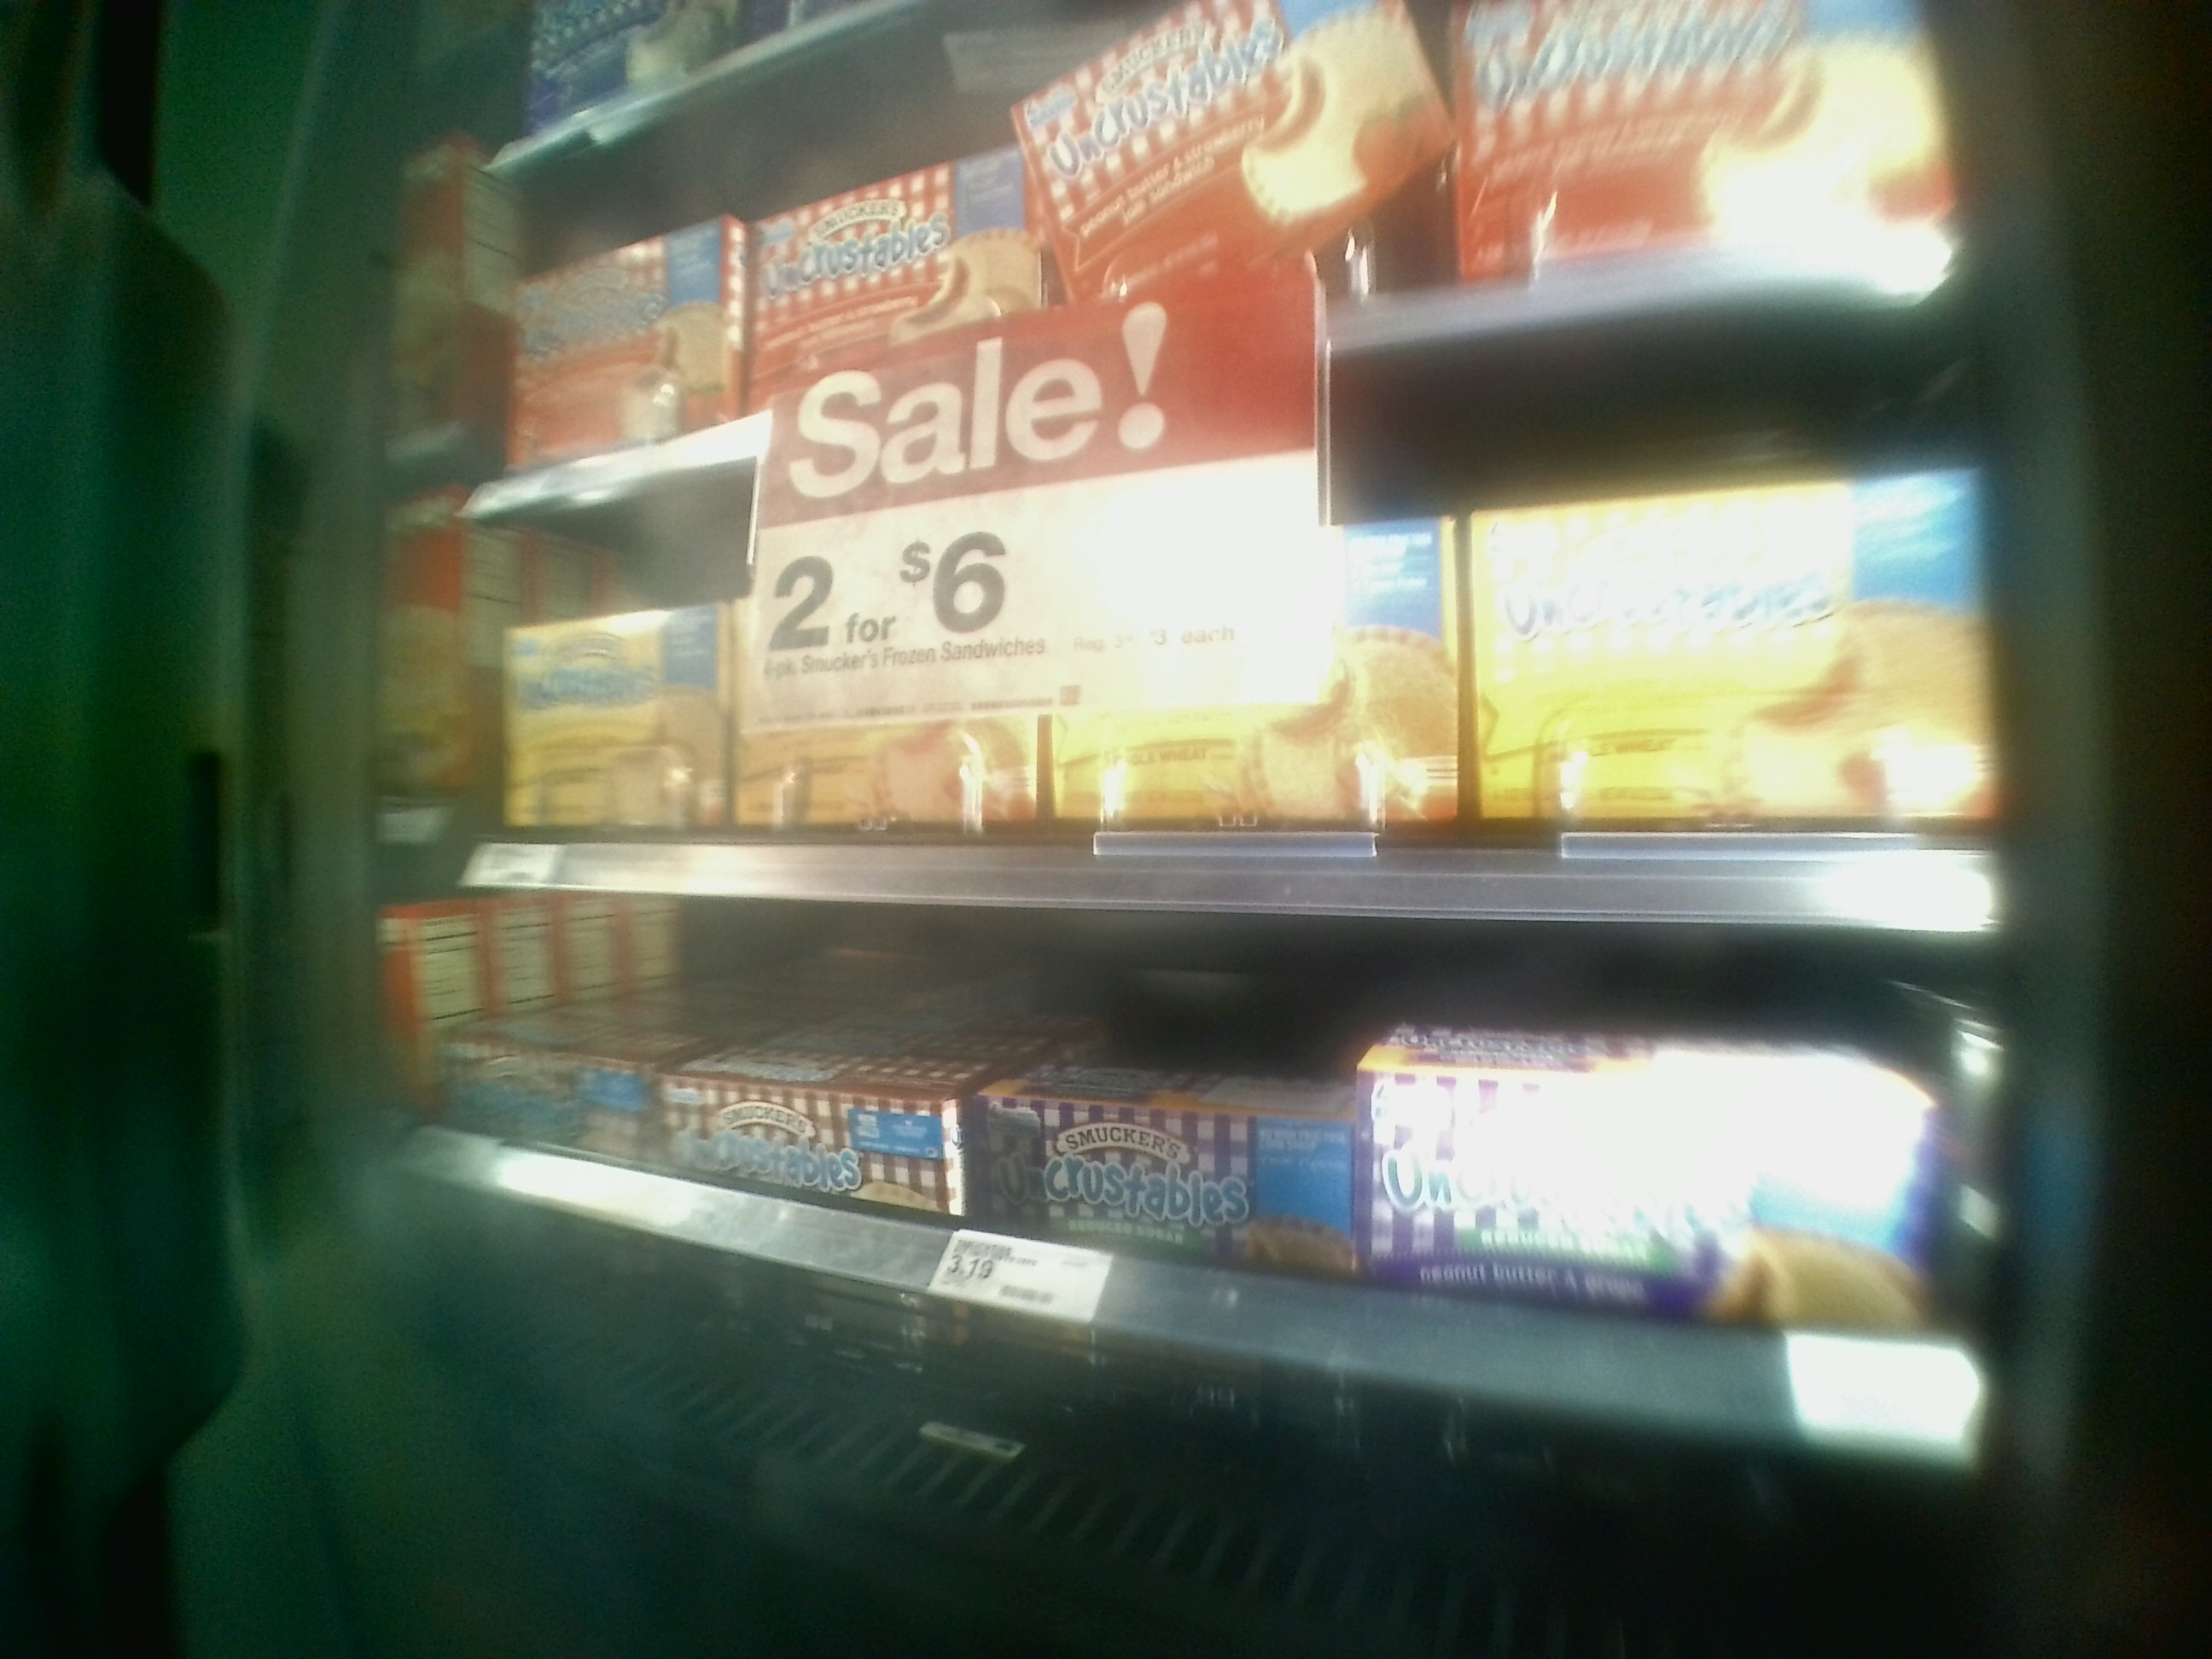shelf: (381, 894, 1996, 1540), (415, 512, 2005, 936)
